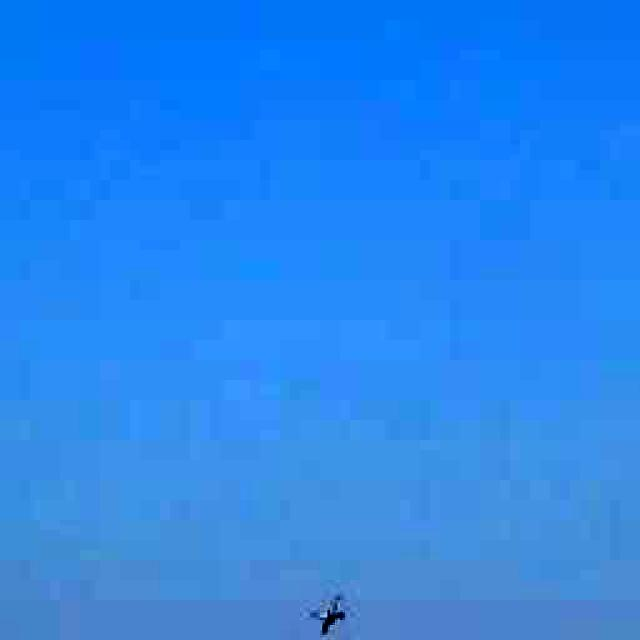bird: (296, 580, 369, 640)
